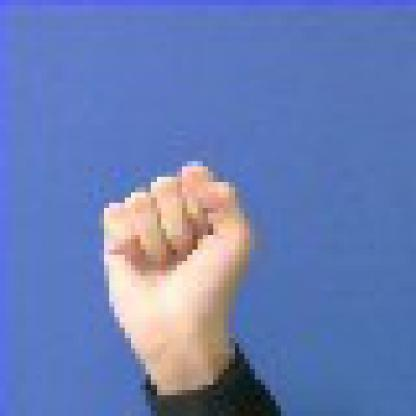zero: (40, 135, 307, 405)
